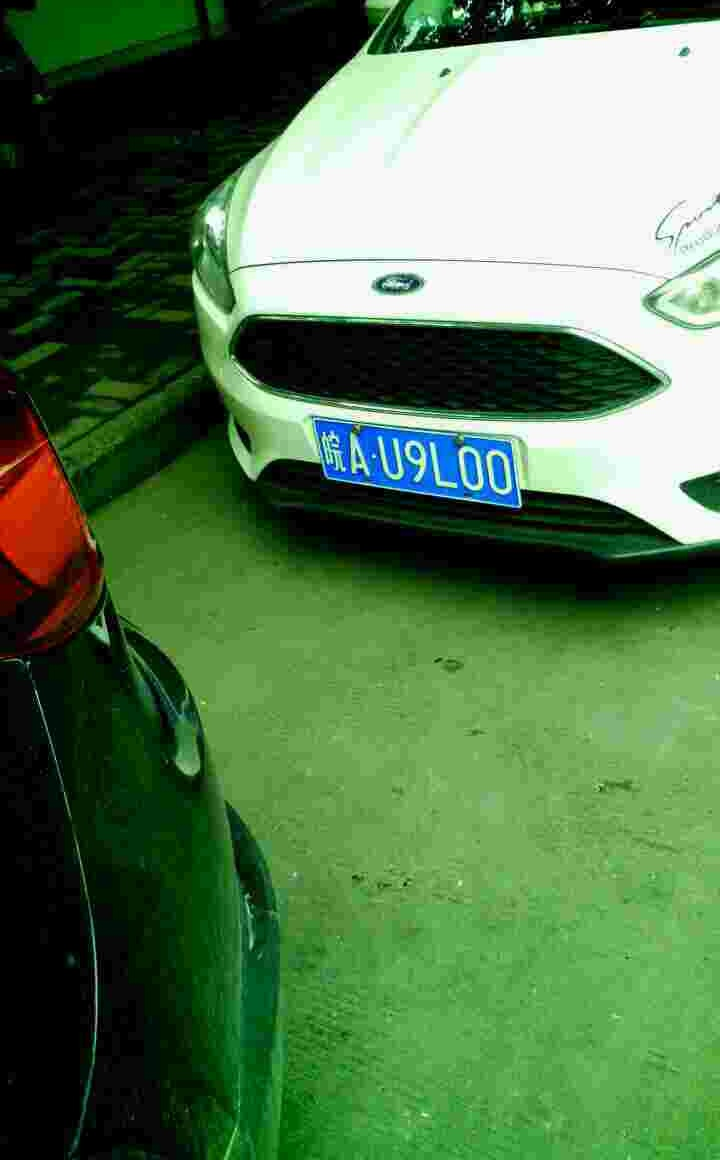plate: (307, 411, 527, 512)
